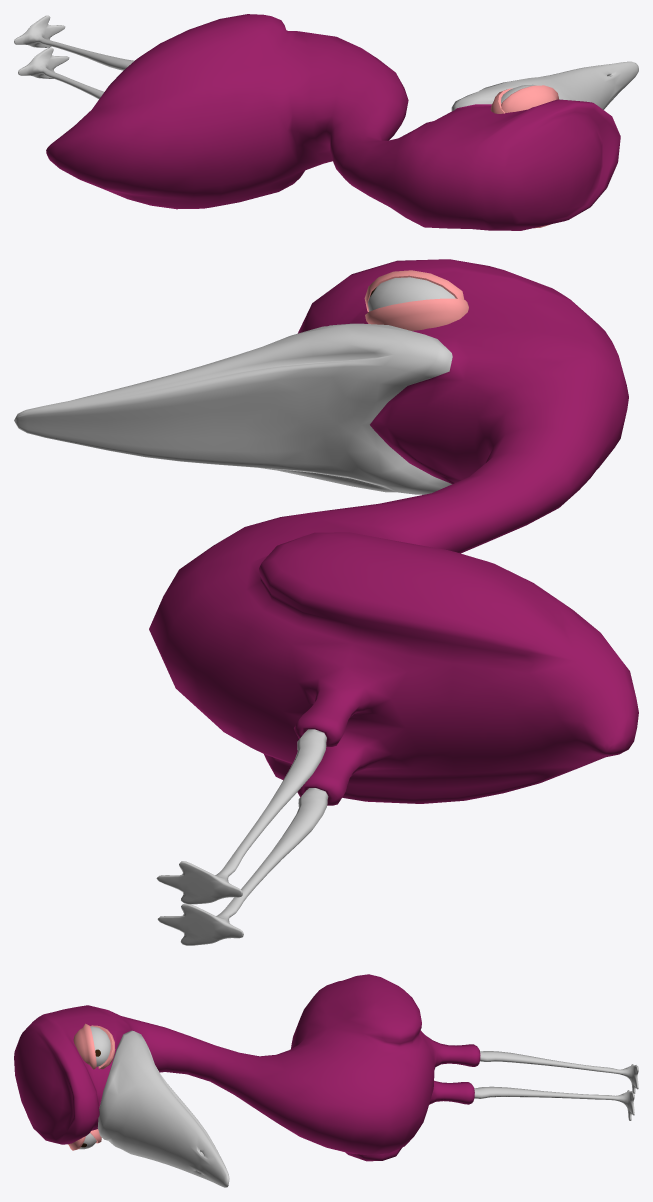
The picture shows the model from 3 angles, top to bottom: view 1: azimuth 30°, elevation 25°; view 2: azimuth 150°, elevation 25°; view 3: azimuth 270°, elevation 25°; orthographic projection. The views are drawn at different scales.
Parts seen in each view (by area): view 1: duck; view 2: duck; view 3: duck.
Boxes of the visible parts, x1=… form: duck: x1=14, y1=14, x2=638, y2=230; duck: x1=14, y1=259, x2=638, y2=945; duck: x1=14, y1=974, x2=638, y2=1187.
Size of the model in its own units: 31.26 by 11.72 by 39.3.
